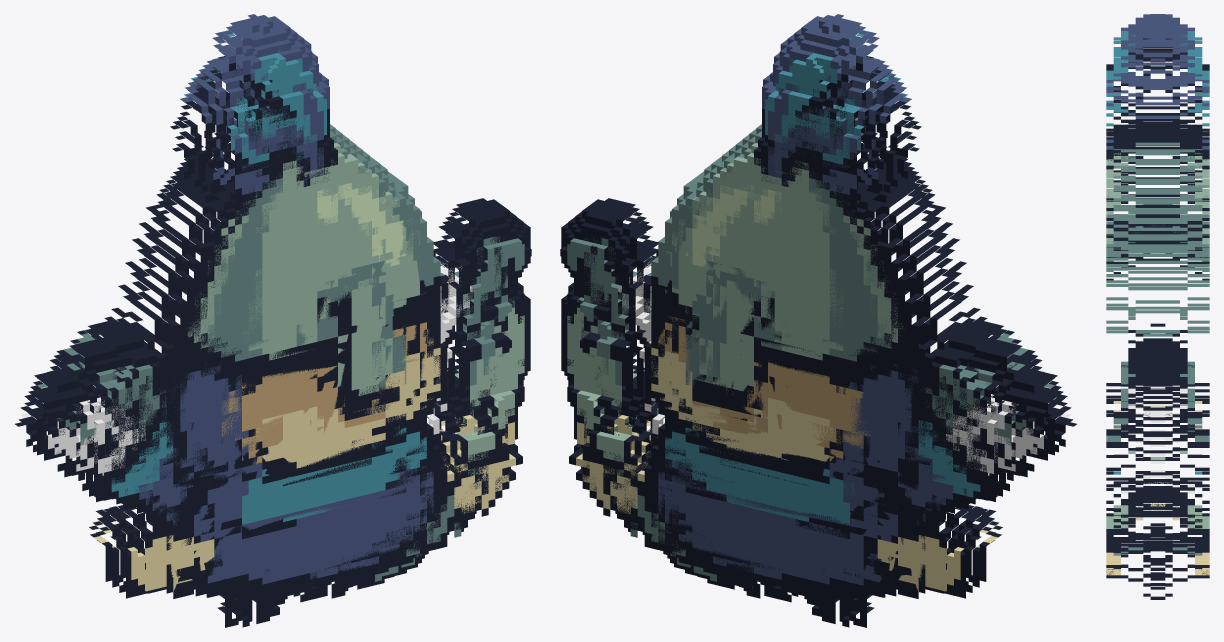
Rendered from arqueiro_correndo.glb.
3 renders of one model, left to right at view 1: azimuth 30°, elevation 25°; view 2: azimuth 150°, elevation 25°; view 3: azimuth 270°, elevation 25°, orthographic. The views are drawn at different scales.
Visible parts, largest first — view 1: q0, q1, q3, q2; view 2: q0, q1, q3, q2; view 3: q1, q0, q3, q2.
Part boxes in pixels (bbox=[...]): q0: bbox=[15, 56, 511, 613]; q1: bbox=[15, 18, 531, 602]; q3: bbox=[28, 19, 510, 627]; q2: bbox=[39, 14, 530, 623]; q0: bbox=[580, 56, 1076, 613]; q1: bbox=[560, 18, 1075, 602]; q3: bbox=[581, 19, 1063, 627]; q2: bbox=[562, 14, 1052, 623]; q1: bbox=[1106, 14, 1209, 581]; q0: bbox=[1106, 37, 1209, 599]; q3: bbox=[1106, 27, 1209, 589]; q2: bbox=[1106, 14, 1209, 574].
Size of the model in its own units: 73 by 83 by 14.
Materials: 1 (1 with a texture image).
